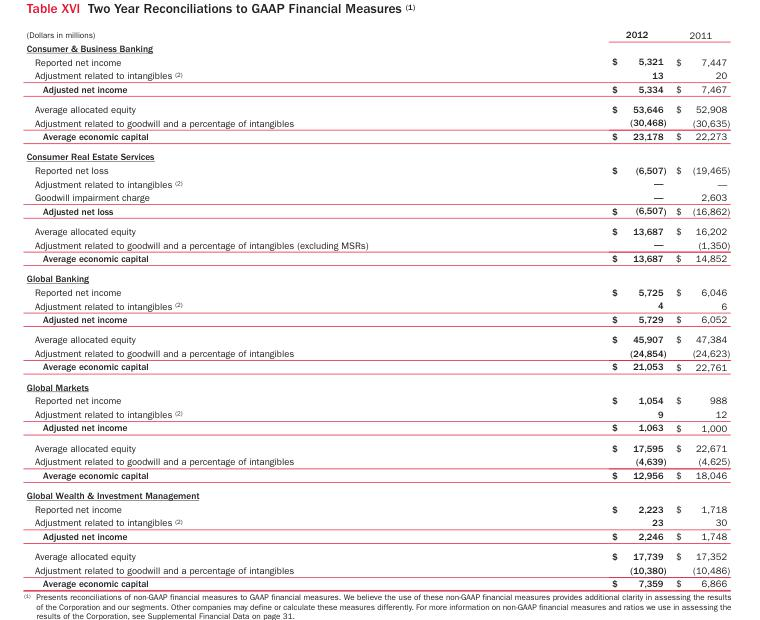table: (25, 28, 729, 588)
table column: (25, 28, 489, 588), (489, 28, 670, 588), (670, 28, 729, 588)
table column header: (25, 28, 729, 40)
table projected row header: (25, 267, 729, 284), (25, 376, 729, 393), (25, 484, 729, 501), (25, 146, 729, 162), (25, 40, 729, 54)
table row: (25, 81, 729, 98), (25, 98, 729, 115), (25, 129, 729, 146), (25, 203, 729, 220), (25, 220, 729, 237), (25, 267, 729, 284), (25, 328, 729, 345), (25, 359, 729, 376), (25, 376, 729, 393), (25, 420, 729, 437), (25, 437, 729, 454), (25, 467, 729, 484), (25, 484, 729, 501), (25, 528, 729, 545), (25, 545, 729, 562), (25, 146, 729, 162), (25, 251, 729, 267), (25, 312, 729, 328), (25, 40, 729, 54), (25, 54, 729, 68), (25, 115, 729, 129), (25, 162, 729, 176), (25, 176, 729, 190), (25, 237, 729, 251), (25, 284, 729, 298), (25, 298, 729, 312), (25, 345, 729, 359), (25, 406, 729, 420), (25, 501, 729, 515), (25, 562, 729, 576), (25, 68, 729, 81), (25, 190, 729, 203), (25, 393, 729, 406), (25, 454, 729, 467), (25, 515, 729, 528), (25, 28, 729, 40), (25, 576, 729, 588)
